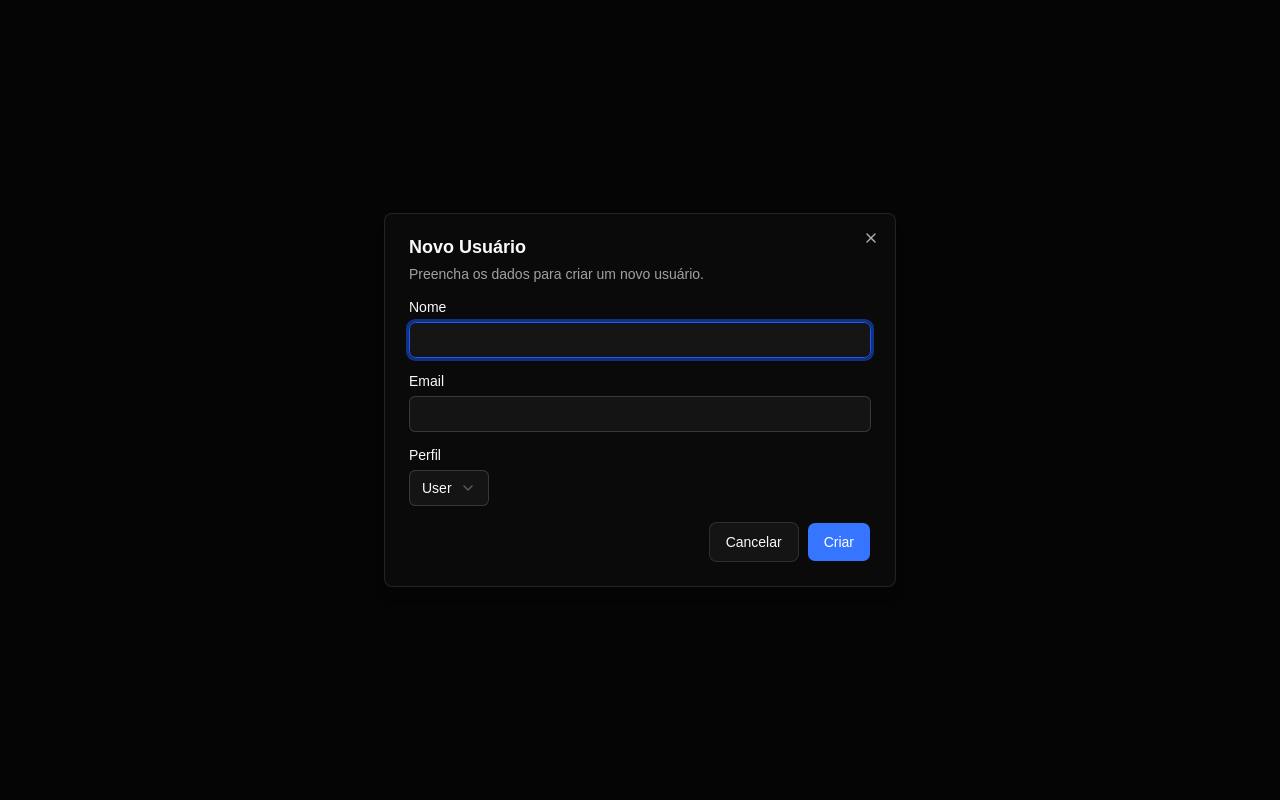
it: CreateUserDialog › resposta 409 exibe erro inline no campo email
Type "Bob Costa" into the field labelled "Nome".
click(640, 340); type("Bob Costa")  # box [409,322,871,358]
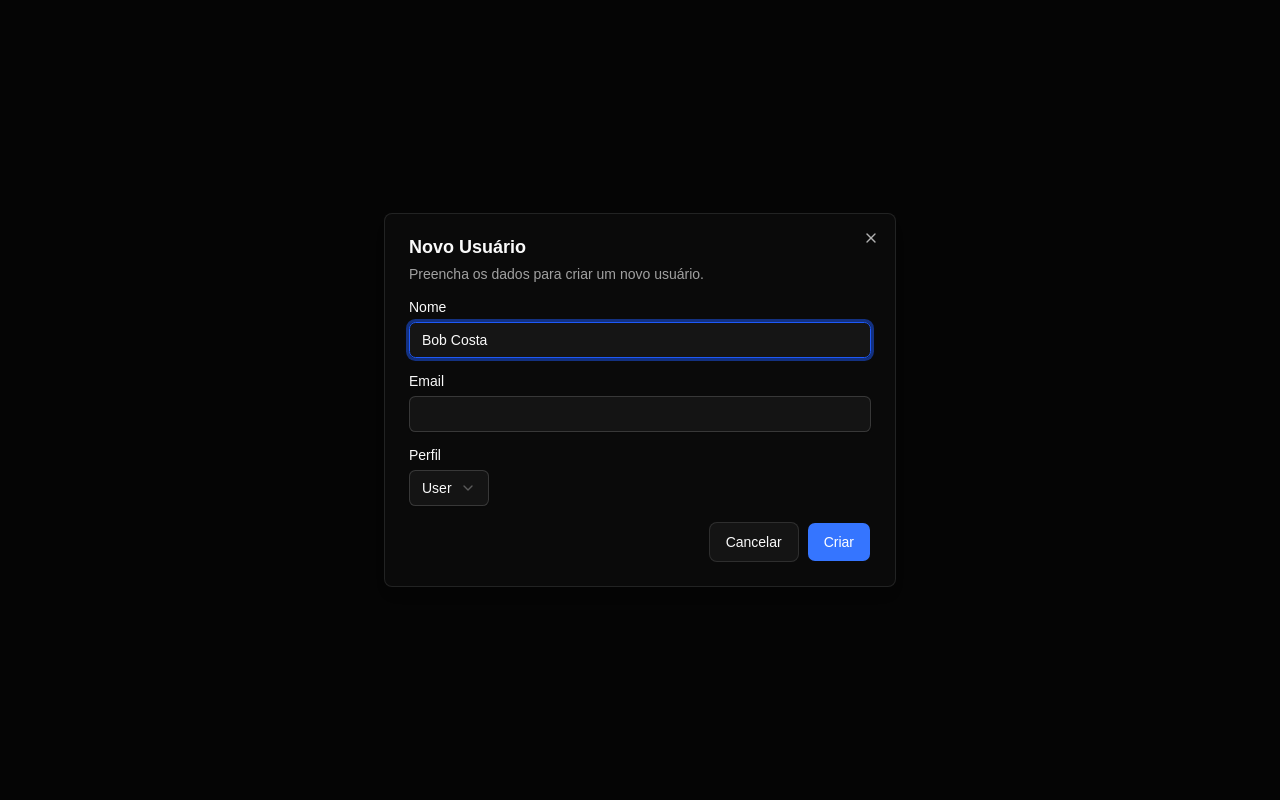
Type "bob@test.com" into the field labelled "Email".
click(640, 414); type("bob@test.com")  # box [409,396,871,432]
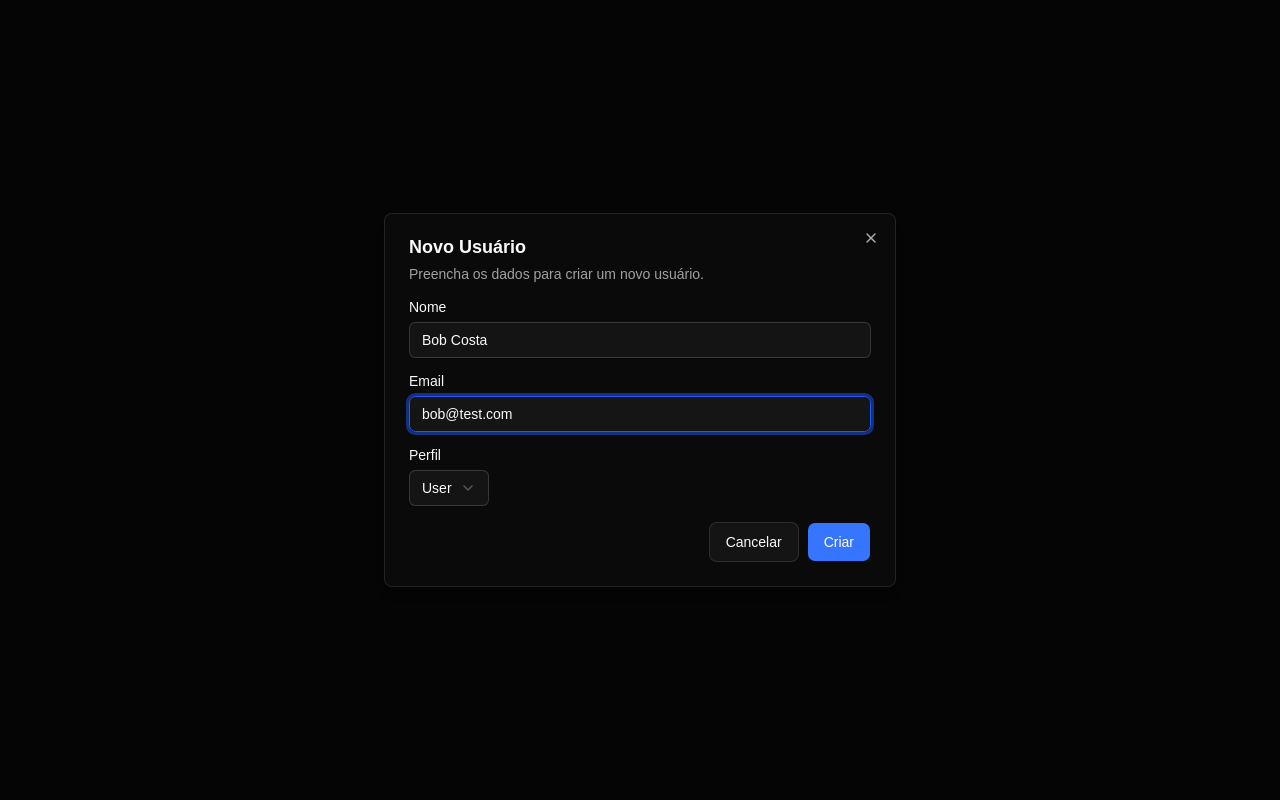
Click the button "Criar".
click(839, 542)  # box [807,522,871,562]
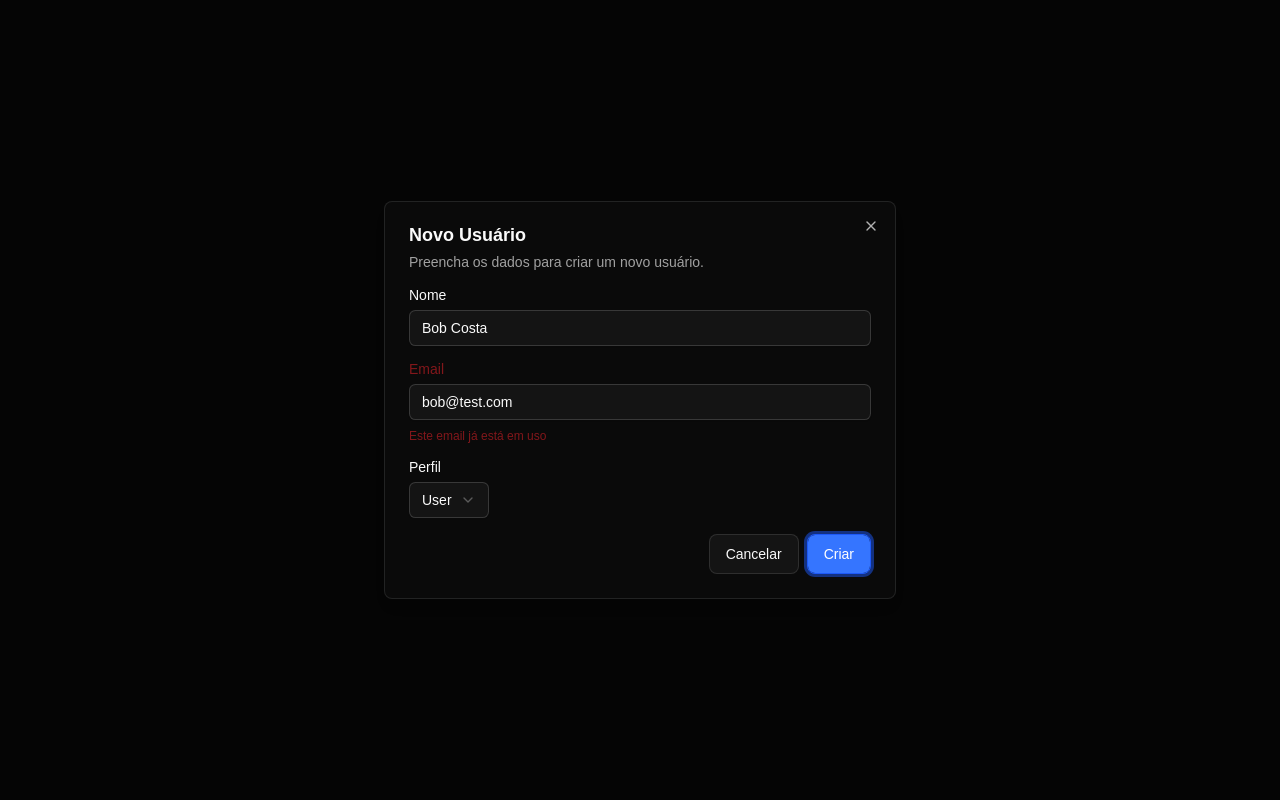
expect the text "Este email já está em uso" is shown: met, box [409,429,546,443]
